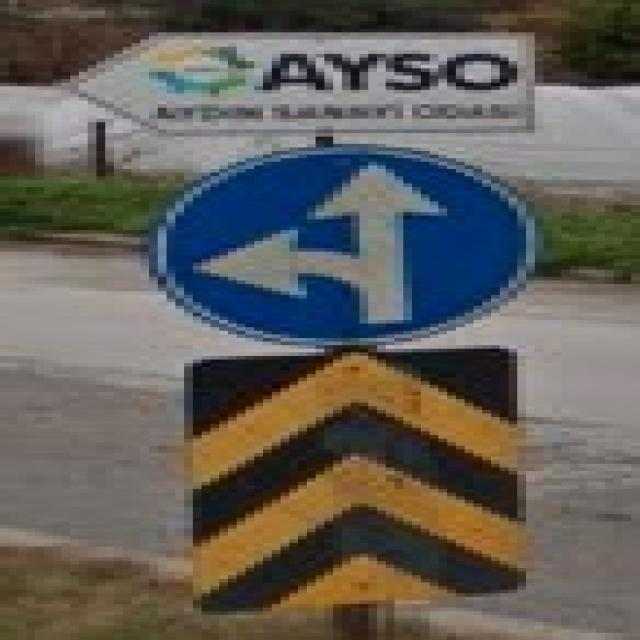Straight or Left: (150, 147, 536, 345)
